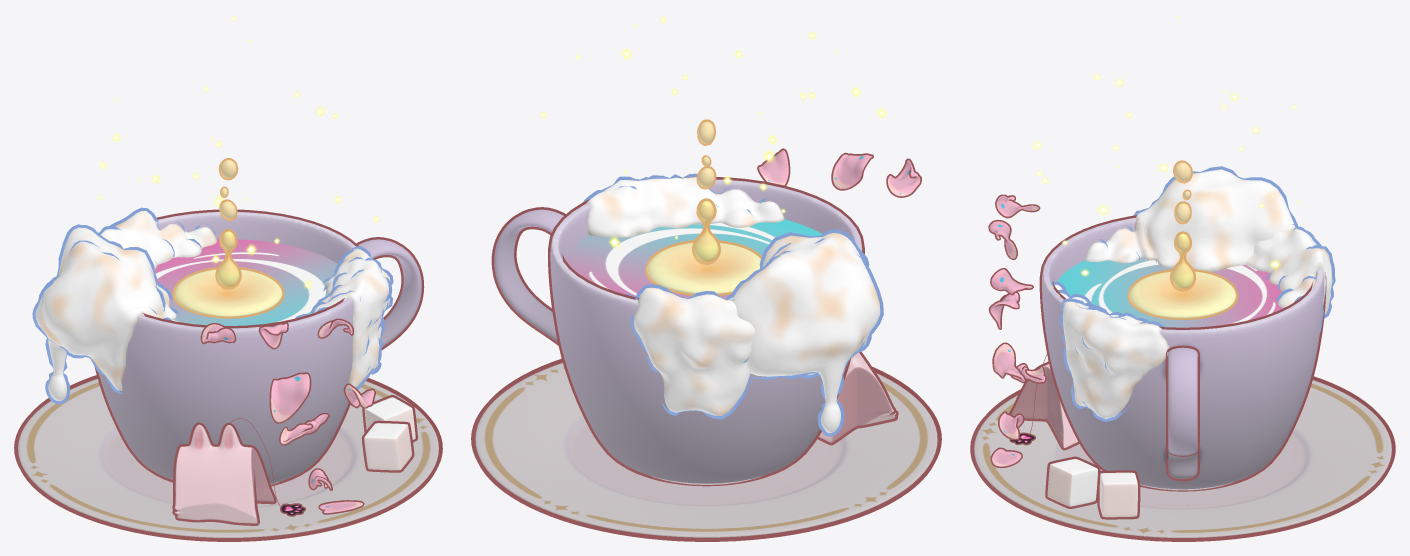
Rendered from cloud_tea.glb.
3 views of the same model, side by side, from view 1: azimuth 30°, elevation 25°; view 2: azimuth 150°, elevation 25°; view 3: azimuth 270°, elevation 25° (orthographic). The views are drawn at different scales.
Parts seen in each view (by area): view 1: Mug, Plate, Foam, Tea Bag, Liquid, Foam 3, Droplet Ripple, Foam 2, Handle, Sugar Cube 2, Petal.006, Sugar Cube 2.001 (+6 smaller); view 2: Plate, Mug, Foam, Foam 2, Foam 3, Liquid, Droplet Ripple, Handle, Tea Bag, Droplet Big, Petal.005, Petal.001 (+1 smaller); view 3: Mug, Plate, Foam, Foam 3, Liquid, Handle, Foam 2, Droplet Ripple, Tea Bag, Sugar Cube 2, Sugar Cube 2.001, Droplet Big (+7 smaller).
Boxes of the visible parts, <box> form: Mug: <box>94,209,363,486</box>; Plate: <box>14,375,442,541</box>; Foam: <box>32,224,179,404</box>; Tea Bag: <box>172,422,276,525</box>; Liquid: <box>155,239,337,325</box>; Foam 3: <box>295,246,393,389</box>; Droplet Ripple: <box>172,267,284,318</box>; Foam 2: <box>98,207,216,269</box>; Handle: <box>356,237,424,350</box>; Sugar Cube 2: <box>362,420,414,472</box>; Petal.006: <box>269,372,311,423</box>; Sugar Cube 2.001: <box>362,395,417,442</box>; Plate: <box>471,358,941,541</box>; Mug: <box>548,177,864,486</box>; Foam: <box>728,229,883,436</box>; Foam 2: <box>624,284,755,419</box>; Foam 3: <box>583,173,784,237</box>; Liquid: <box>564,219,821,298</box>; Droplet Ripple: <box>645,240,761,295</box>; Handle: <box>491,207,565,345</box>; Tea Bag: <box>817,351,898,445</box>; Droplet Big: <box>692,198,720,264</box>; Petal.005: <box>831,152,873,190</box>; Petal.001: <box>886,158,921,197</box>; Mug: <box>1039,215,1326,491</box>; Plate: <box>970,376,1395,541</box>; Foam: <box>1085,166,1297,272</box>; Foam 3: <box>1042,281,1169,421</box>; Liquid: <box>1057,258,1282,327</box>; Handle: <box>1165,345,1199,481</box>; Foam 2: <box>1246,224,1335,333</box>; Droplet Ripple: <box>1127,269,1238,319</box>; Tea Bag: <box>1009,361,1079,450</box>; Sugar Cube 2: <box>1045,456,1100,508</box>; Sugar Cube 2.001: <box>1097,470,1140,519</box>; Droplet Big: <box>1170,231,1195,291</box>.
Size of the model in its own units: 0.1405 by 0.1433 by 0.1383.
13 materials, 10 textured.
